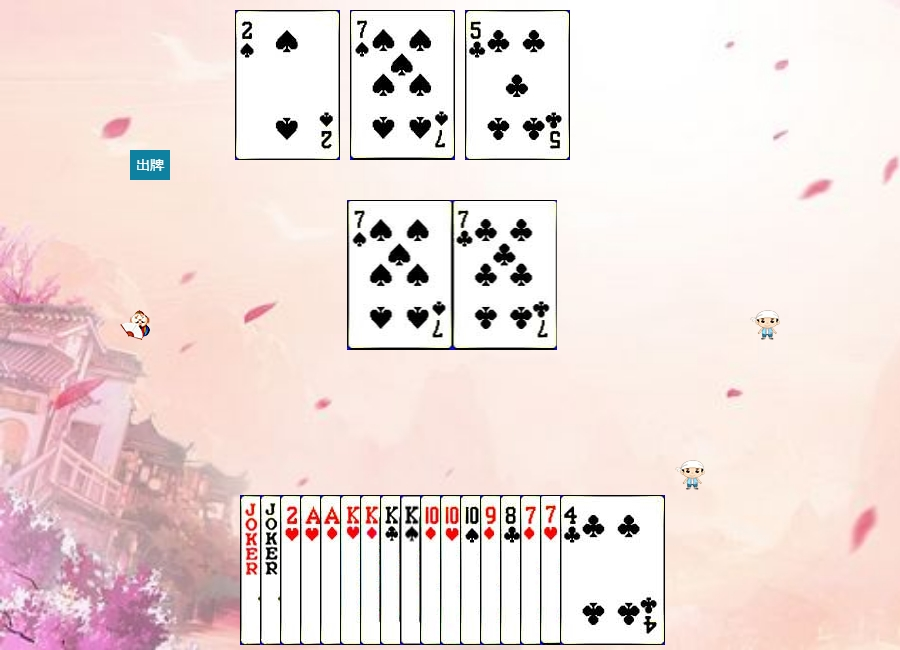10~1: (420, 495, 525, 645)
10~3: (440, 495, 545, 645)
10~4: (460, 495, 565, 645)
13~1: (360, 495, 465, 645)
13~2: (380, 495, 485, 645)
13~3: (340, 495, 445, 645)
13~4: (400, 495, 505, 645)
14~1: (320, 495, 425, 645)
14~3: (300, 495, 405, 645)
15~3: (280, 495, 385, 645)
15~4: (235, 10, 340, 160)
17~3: (260, 495, 365, 645)
18~4: (240, 495, 345, 645)
4~2: (560, 495, 665, 645)
5~2: (465, 10, 570, 160)
7~1: (520, 495, 625, 645)
7~2: (453, 200, 558, 350)
7~3: (540, 495, 645, 645)
7~4: (350, 10, 455, 160), (348, 200, 453, 350)
8~2: (500, 495, 605, 645)
9~1: (480, 495, 585, 645)
